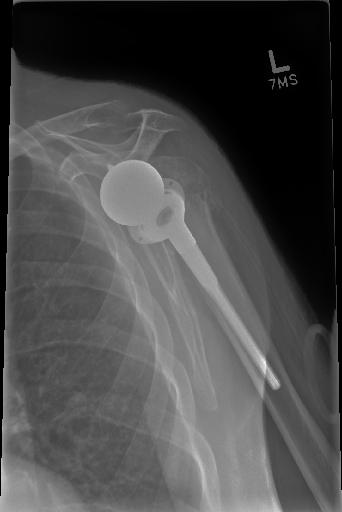shoulder fracture: (96, 95, 154, 137)
